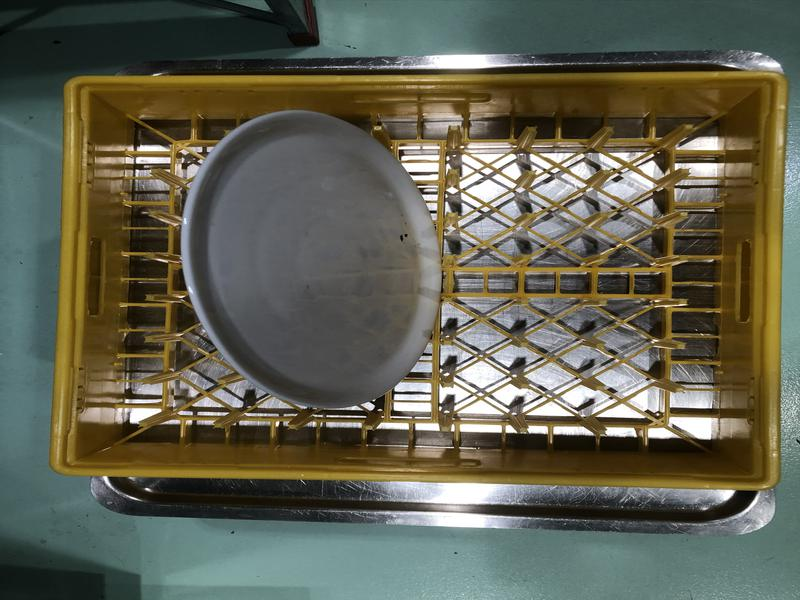Dish: (191, 109, 444, 409)
